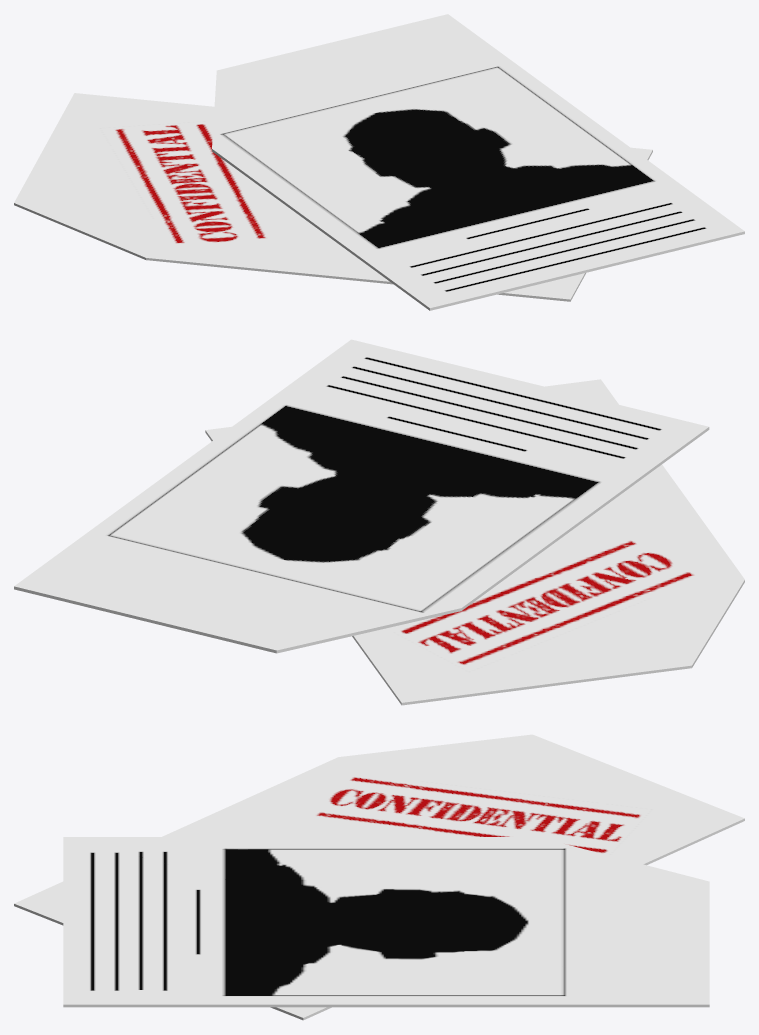
Rendered from papers.fbx.
3 renders of one model, top to bottom at view 1: azimuth 30°, elevation 25°; view 2: azimuth 150°, elevation 25°; view 3: azimuth 270°, elevation 25°, orthographic. The views are drawn at different scales.
Parts seen in each view (by area): view 1: Papel; view 2: Papel; view 3: Papel.
Part boxes in pixels (<box>): Papel: <box>14,14,744,310</box>; Papel: <box>14,339,744,705</box>; Papel: <box>14,734,744,1020</box>.
Bounding box in the file's own units: 1.06 × 0.0111 × 1.16.
